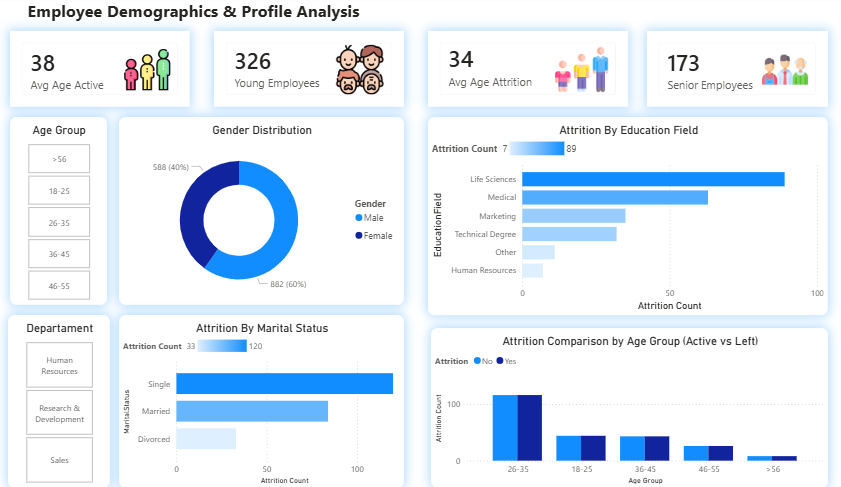

This screenshot's page, from the dashboard's own definition file:
{"tool":"powerbi","page":{"name":"Employee Demographics","canvas":[1280,720],"ordinal":2},"visuals":[{"type":"textbox","box":[48.3,0,513.3,41.7],"z":0},{"type":"cardVisual","fields":{"Data":["Medidas.Avg Age Active"]},"box":[27.8,51.2,263.4,111.2],"z":1000},{"type":"cardVisual","fields":{"Data":["Medidas.Avg Age Attrition"]},"box":[639.5,51.2,292.7,111.2],"z":2000},{"type":"cardVisual","fields":{"Data":["Medidas.Young Employees"]},"box":[326.3,51.2,278,111.2],"z":3000},{"type":"cardVisual","fields":{"Data":["Medidas.Senior Employees"]},"box":[960,51.2,264.9,111.2],"z":4000},{"type":"clusteredColumnChart","title":"Attrition Comparison by Age Group (Active vs Left)","fields":{"Category":["Employees.Age Group"],"Y":["Medidas.Attrition Count"],"Series":["Employees.Attrition"]},"box":[643.9,485.9,581,234.1],"z":5000},{"type":"donutChart","title":"Gender Distribution","fields":{"Category":["Employees.Gender"],"Y":["Medidas.Total Employees"]},"box":[187.3,177.1,417.1,275.1],"z":6000},{"type":"barChart","title":"Attrition By Marital Status","fields":{"Y":["Medidas.Attrition Count"],"Category":["Employees.MaritalStatus"]},"box":[187.3,466.8,417.1,253.2],"z":7000},{"type":"barChart","title":"Attrition By Education Field","fields":{"Category":["Employees.EducationField"],"Y":["Medidas.Attrition Count"]},"box":[639.5,177.1,585.4,289.8],"z":8000},{"type":"slicer","title":"Age Group","fields":{"Values":["Employees.Age Group"]},"box":[27.8,177.1,142,275.1],"z":9000},{"type":"slicer","title":"Departament","fields":{"Values":["Employees.Department"]},"box":[24.9,466.8,149.3,253.2],"z":9001}]}

Visuals, with their boxes in screenshot pixels (x1, y1, x2, y2), scaled from the page's 1280x720 canvas onto the 841x487 screenshot:
textbox: [32, 0, 369, 28]
cardVisual - Medidas.Avg Age Active: [18, 35, 191, 110]
cardVisual - Medidas.Avg Age Attrition: [420, 35, 612, 110]
cardVisual - Medidas.Young Employees: [214, 35, 397, 110]
cardVisual - Medidas.Senior Employees: [631, 35, 805, 110]
"Attrition Comparison by Age Group (Active vs Left)" clusteredColumnChart: [423, 329, 805, 486]
"Gender Distribution" donutChart: [123, 120, 397, 306]
"Attrition By Marital Status" barChart: [123, 316, 397, 486]
"Attrition By Education Field" barChart: [420, 120, 805, 316]
"Age Group" slicer: [18, 120, 112, 306]
"Departament" slicer: [16, 316, 114, 486]
